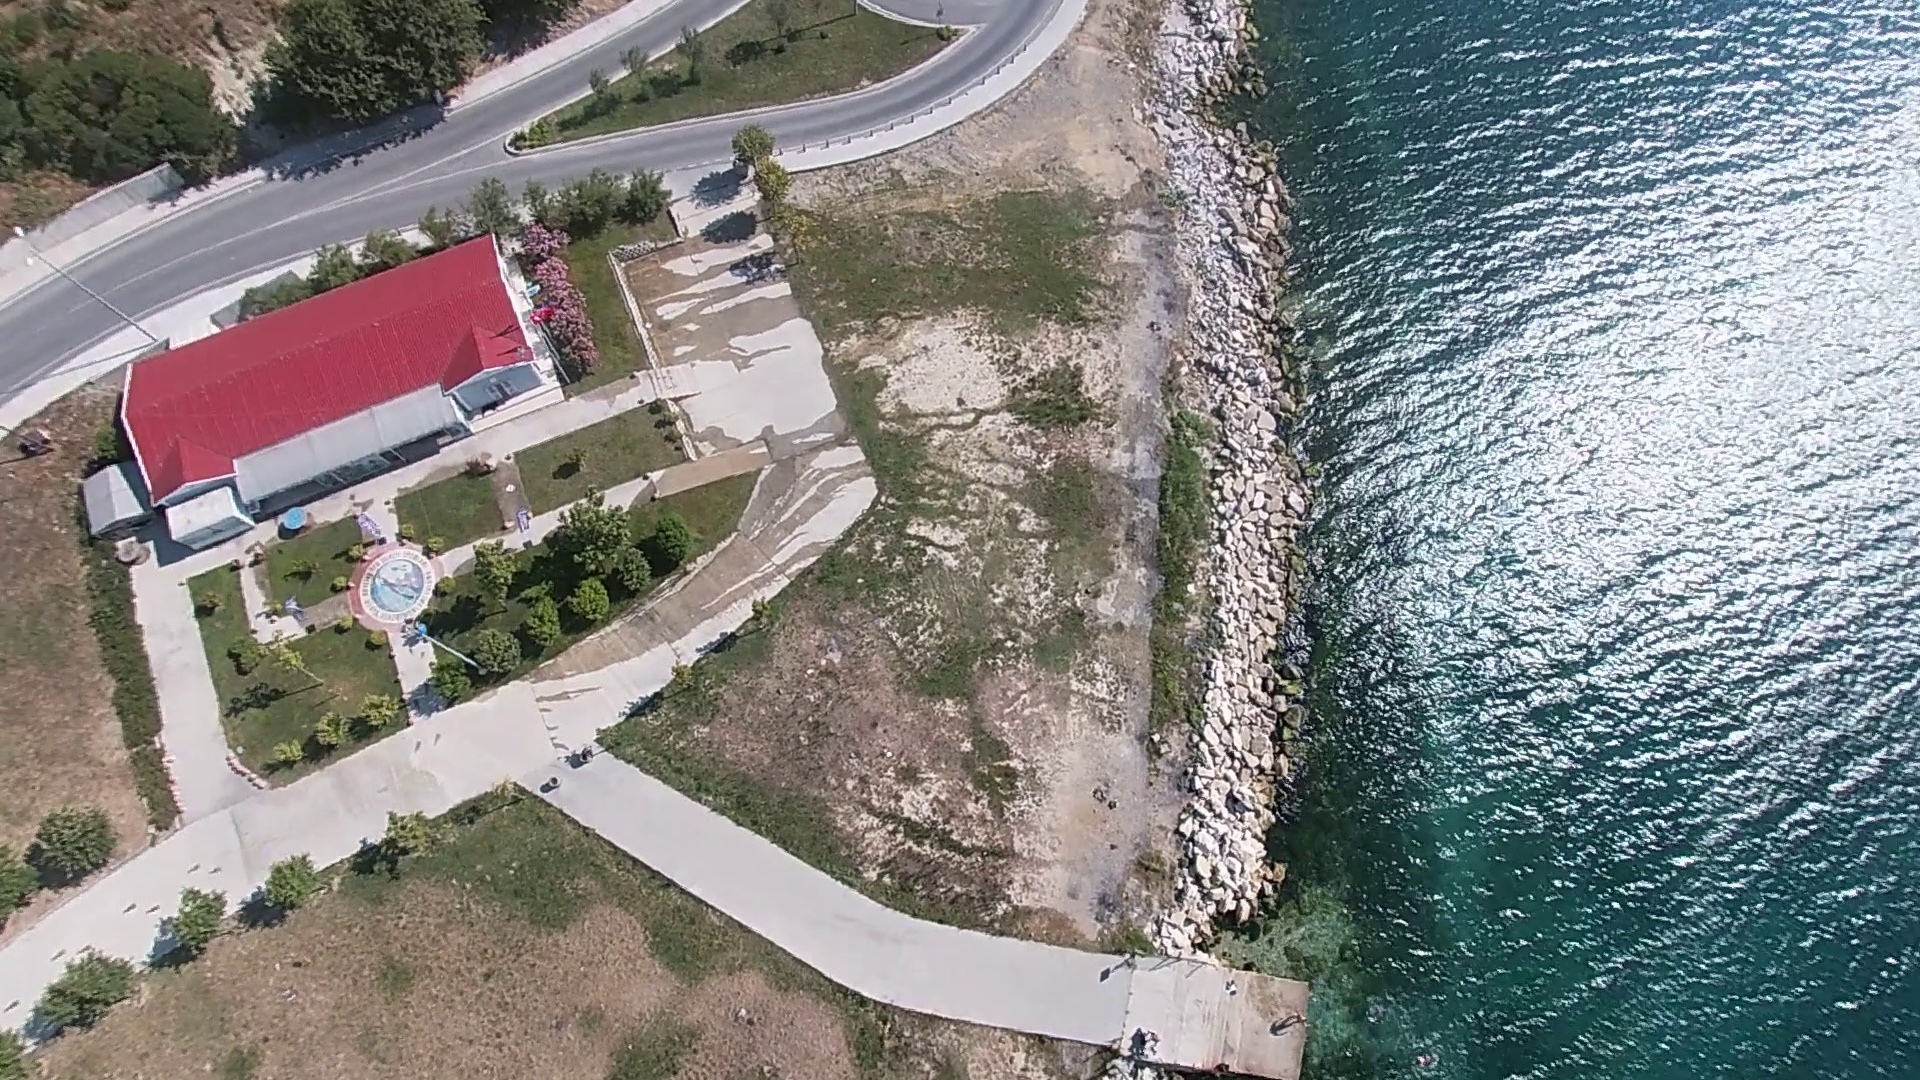insan: (1283, 1002, 1322, 1034)
